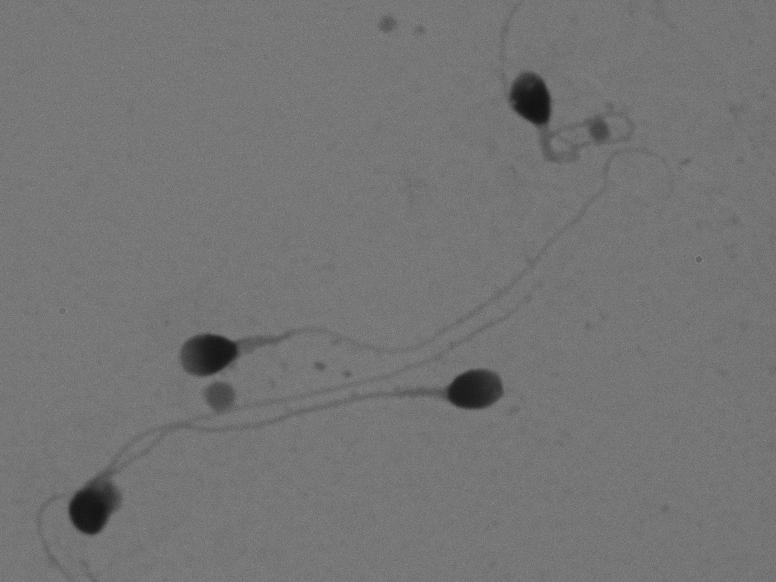Abnormal: (145, 133, 691, 388), (67, 377, 359, 557), (439, 27, 662, 183)
Normal: (121, 342, 520, 493)
